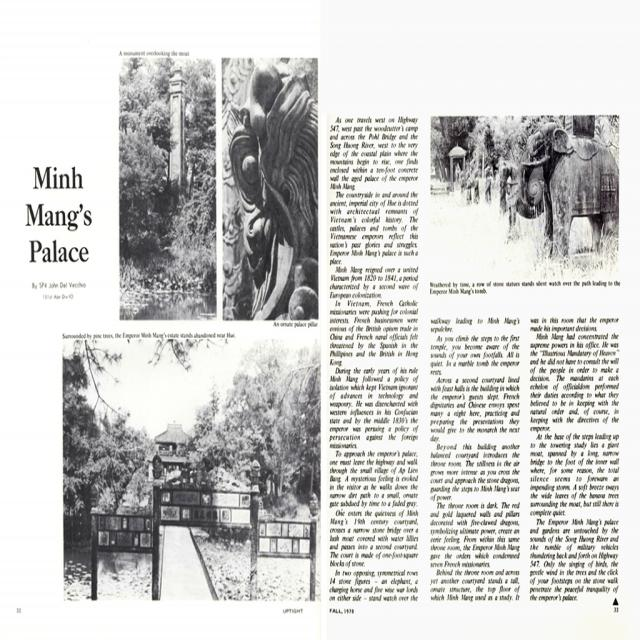elephant: (506, 110, 614, 244)
